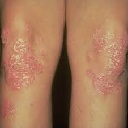Psoriasis: (90, 30, 128, 87), (9, 43, 40, 85)
